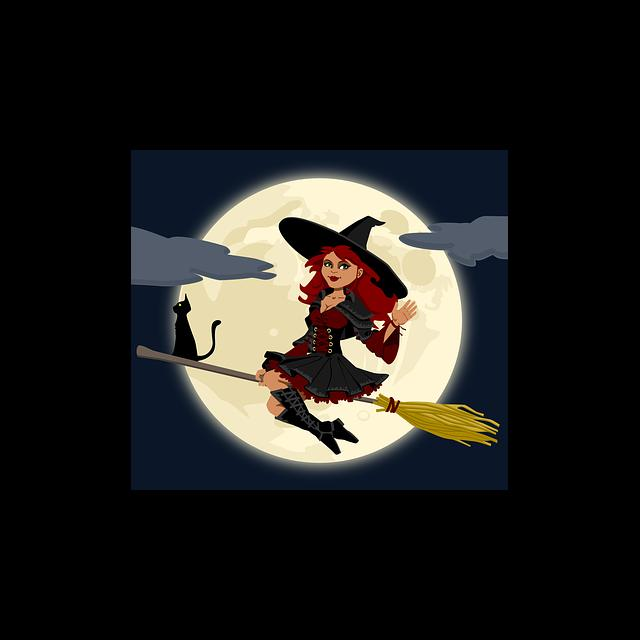female: (302, 228, 391, 313)
